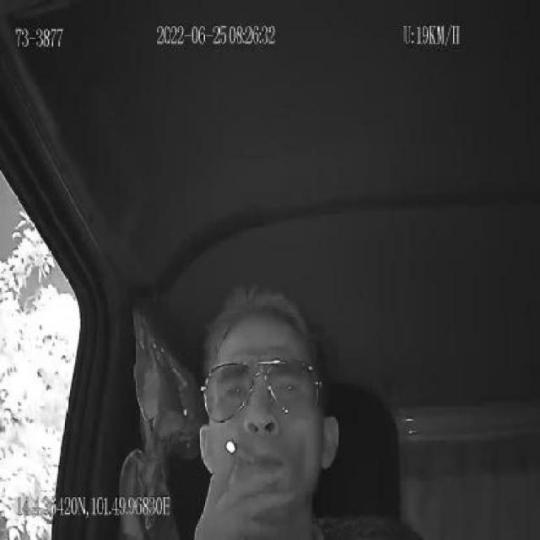smoking: (226, 436, 262, 468)
